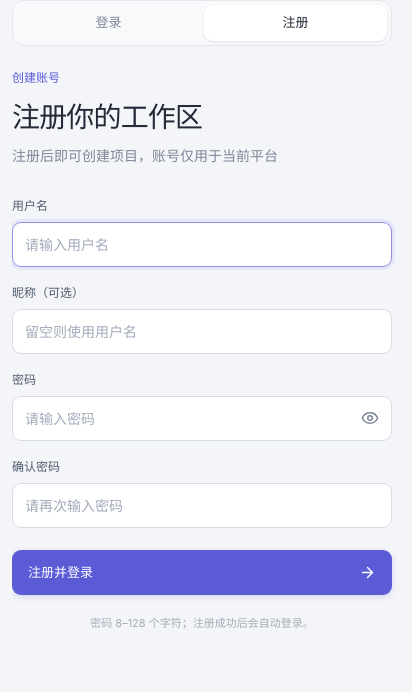
AuthForm › 两次密码不一致时不发请求
This screenshot has width=412, height=692.
In the field with id "username": (202, 244) [12, 222, 392, 267], type "carol"
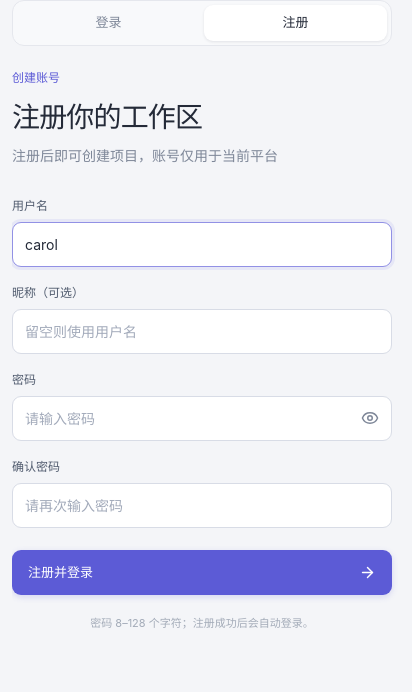
In the password field labelled "密码": (202, 418) [12, 396, 392, 441], type "password123"
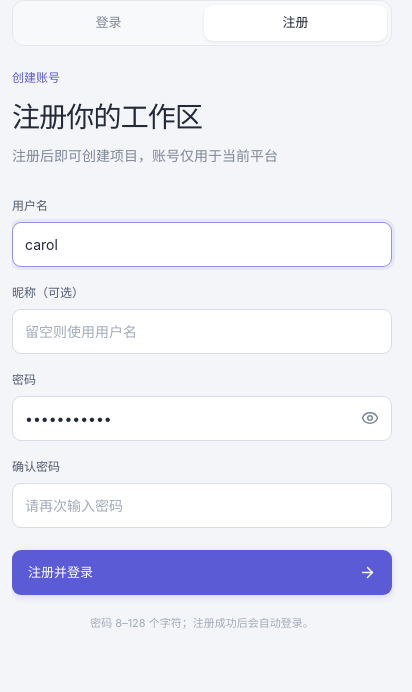
In the password field with id "confirm-password": (202, 506) [12, 483, 392, 528], type "password124"
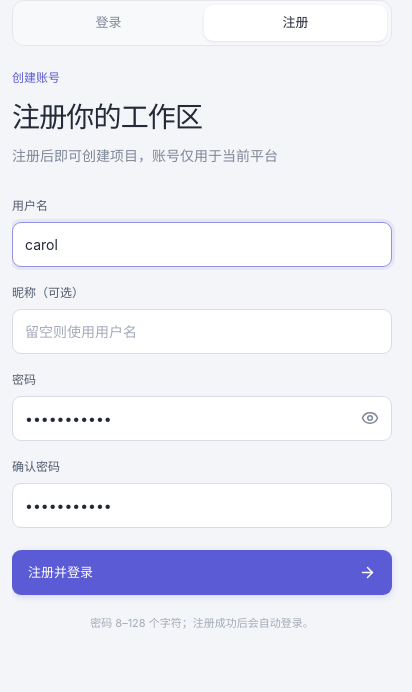
Submit the form
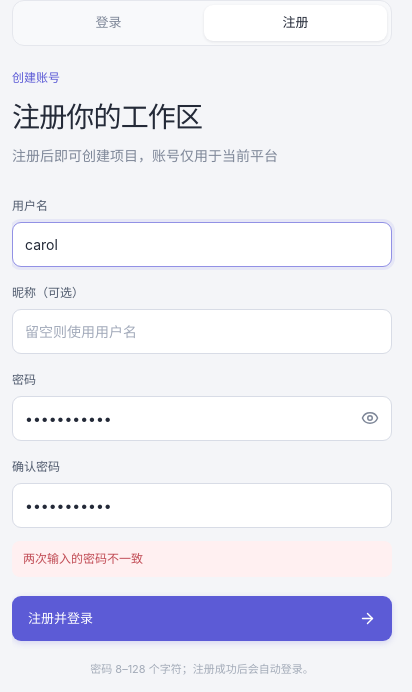
Check: the message "两次输入的密码不一致" is shown, box [12, 541, 392, 577]
